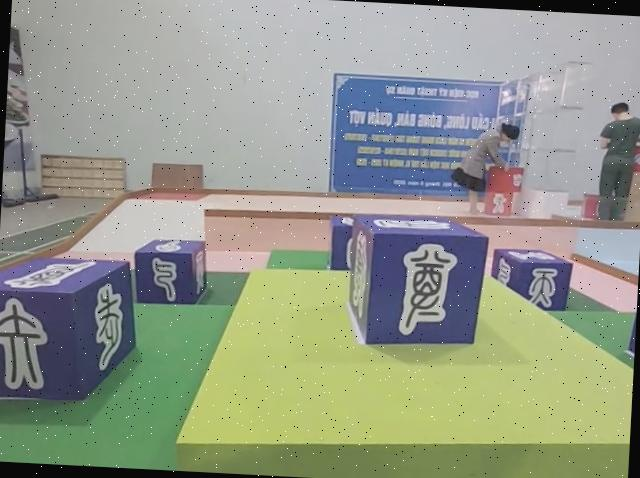R2 Fake Blue: (0, 253, 141, 409), (346, 212, 492, 353), (132, 238, 211, 309), (492, 248, 576, 314)
